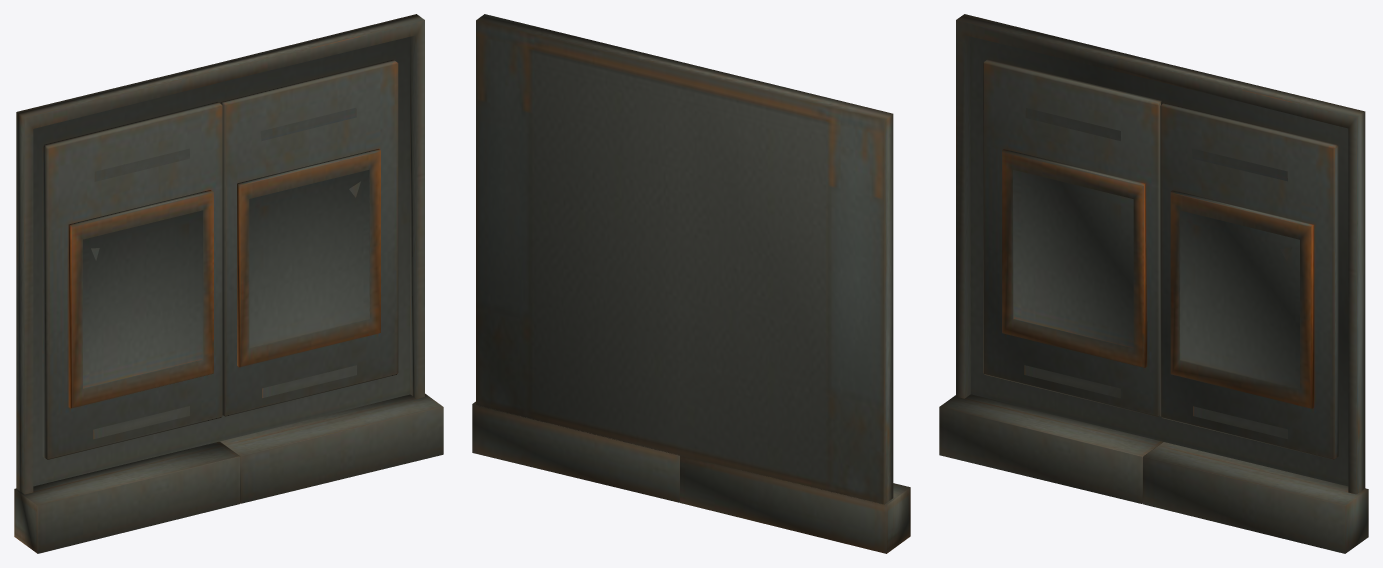
3 renders of one model, left to right at view 1: azimuth 30°, elevation 25°; view 2: azimuth 150°, elevation 25°; view 3: azimuth 330°, elevation 25°, orthographic. The views are drawn at different scales.
Bounding box in the file's own units: 4 × 4 × 0.4.
1 material, 1 textured.
